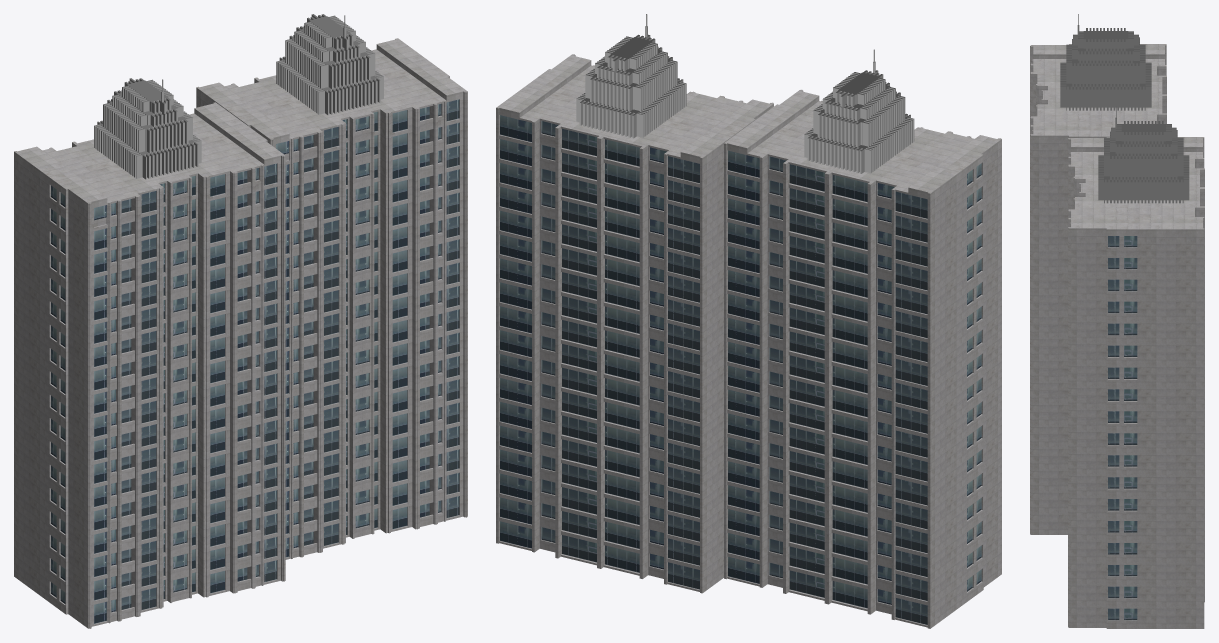
The model's file is BLD-Template-Diagonal.FBX.
3 renders of one model, left to right at view 1: azimuth 30°, elevation 25°; view 2: azimuth 150°, elevation 25°; view 3: azimuth 270°, elevation 25°, orthographic. The views are drawn at different scales.
Visible parts, largest first — view 1: Object013; view 2: Object013; view 3: Object013.
Boxes of the visible parts, bbox=[...] form: Object013: bbox=[14, 14, 467, 628]; Object013: bbox=[496, 14, 1001, 628]; Object013: bbox=[1030, 14, 1204, 628].
Bounding box in the file's own units: 38.76 × 46.44 × 15.46.
